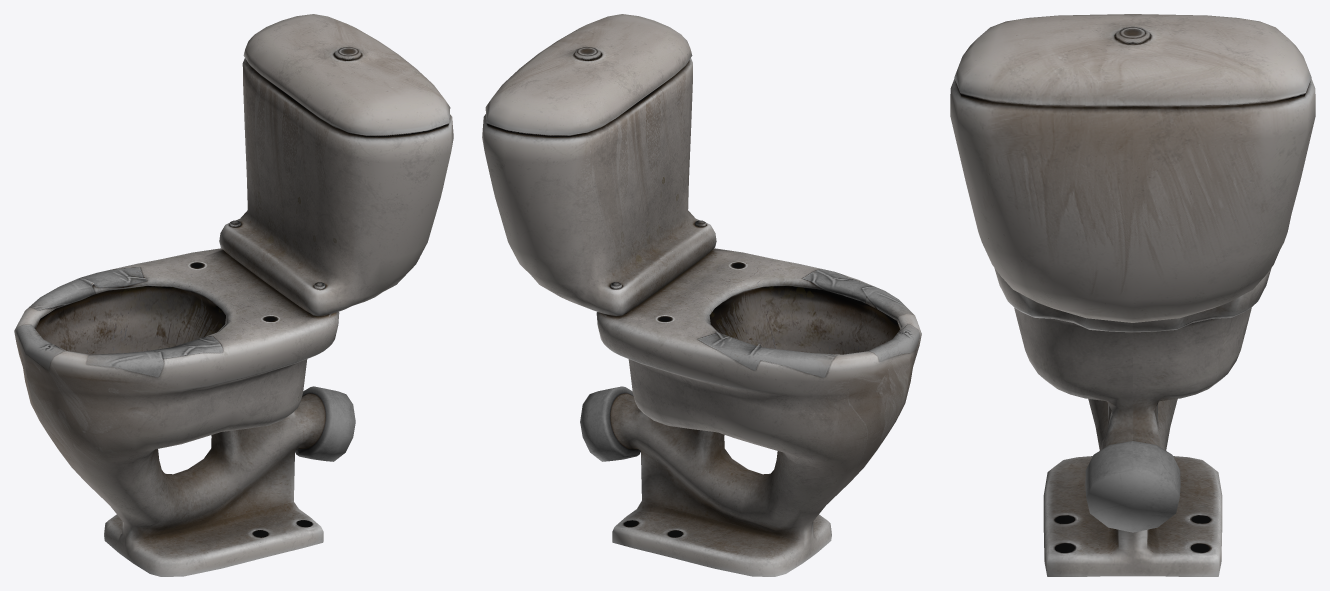
The model's file is dirty_toilet.glb.
The picture shows the model from 3 angles, left to right: view 1: azimuth 30°, elevation 25°; view 2: azimuth 150°, elevation 25°; view 3: azimuth 270°, elevation 25°; orthographic projection. The views are drawn at different scales.
Visible parts, largest first — view 1: Object_2; view 2: Object_2; view 3: Object_2.
Part boxes in pixels (x1,y1,x2,y2): Object_2: [14, 14, 453, 576]; Object_2: [482, 14, 921, 576]; Object_2: [950, 14, 1315, 576].
Bounding box in the file's own units: 7.57 × 8.51 × 4.85.
1 material, 1 textured.
